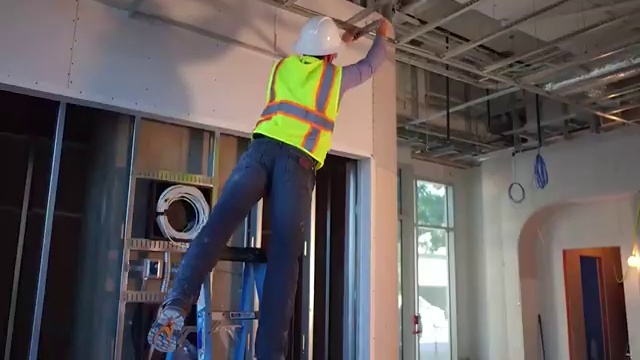helmet: (294, 12, 349, 58)
jacket: (261, 58, 354, 186)
